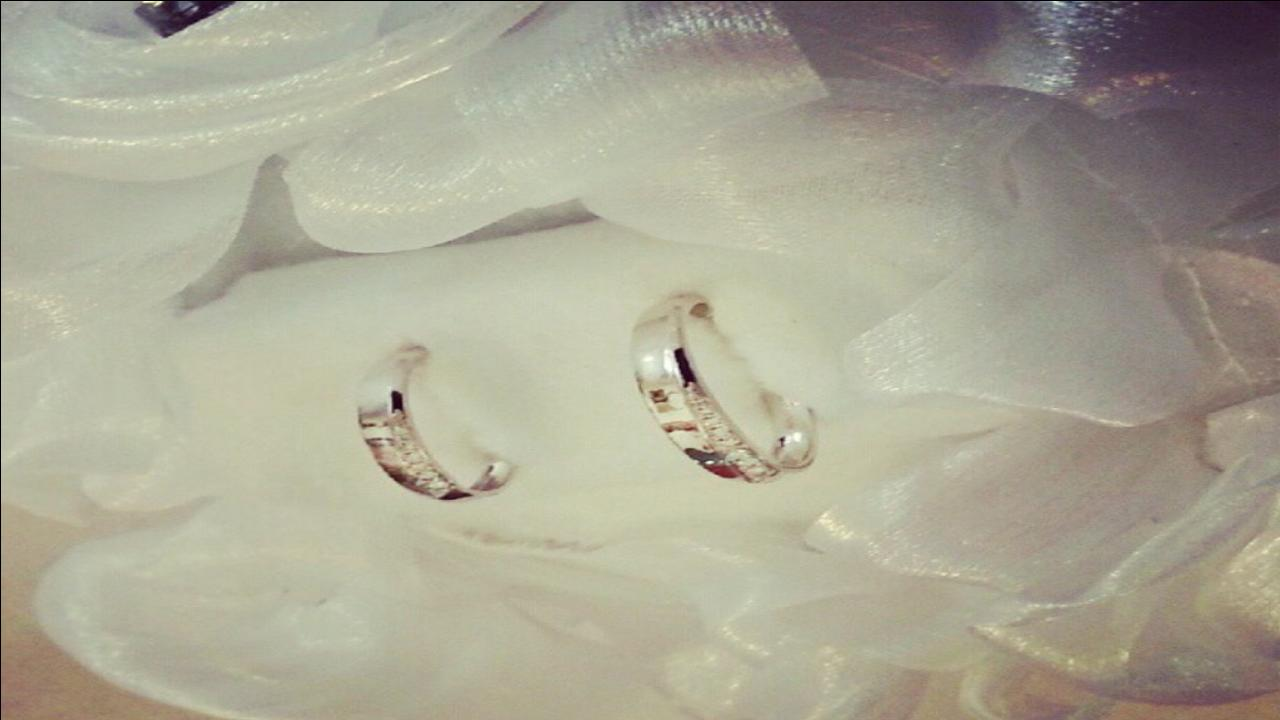ring: (625, 289, 821, 484), (352, 345, 518, 505)
